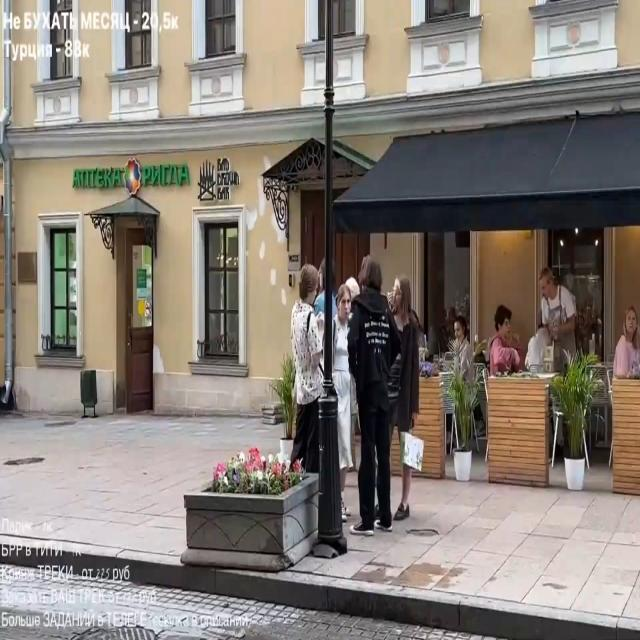Person: (342, 264, 404, 538), (526, 266, 580, 373), (484, 306, 524, 376), (614, 306, 640, 380)
